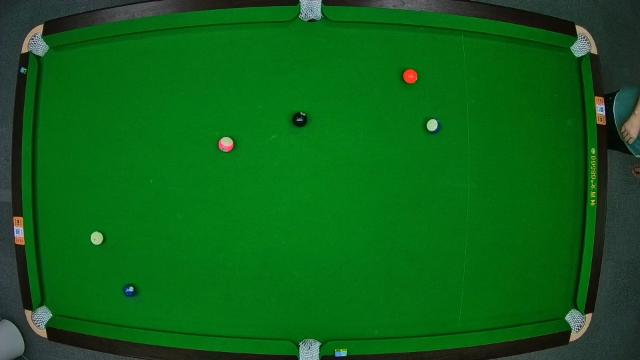bag1: (29, 36, 47, 54)
bag2: (300, 0, 320, 22)
bag3: (572, 34, 592, 54)
bag4: (32, 306, 50, 328)
bag5: (296, 342, 322, 360)
bag6: (566, 310, 586, 332)
ball0: (90, 232, 104, 246)
ball10: (424, 118, 442, 134)
ball12: (218, 136, 236, 154)
ball2: (124, 282, 138, 298)
ball5: (402, 68, 418, 84)
ball8: (292, 110, 308, 127)
